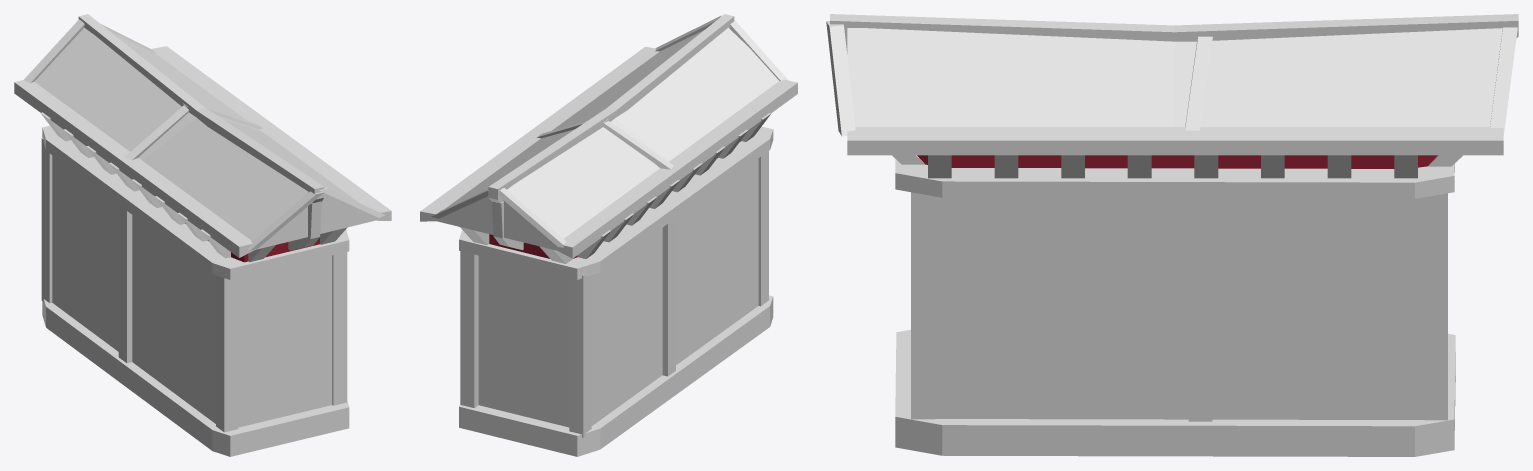
Rendered from Church 3.fbx.
3 views of the same model, side by side, from view 1: azimuth 30°, elevation 25°; view 2: azimuth 150°, elevation 25°; view 3: azimuth 270°, elevation 25° (orthographic). The views are drawn at different scales.
Parts seen in each view (by area): view 1: Cube.061, Cube.056, Cube.043, Cube.035, Cube.054, Cube.036, Cube.040; view 2: Cube.061, Cube.056, Cube.043, Cube.035, Cube.054, Cube.036, Cube.040, Cube.037; view 3: Cube.061, Cube.056, Cube.035, Cube.043, Cube.054, Cube.036, Cube.057, Cube.037.
Boxes of the visible parts, bbox=[...] form: Cube.061: bbox=[52, 155, 332, 427]; Cube.056: bbox=[14, 27, 391, 257]; Cube.043: bbox=[41, 138, 347, 432]; Cube.035: bbox=[42, 299, 349, 456]; Cube.054: bbox=[23, 14, 385, 250]; Cube.036: bbox=[42, 125, 349, 279]; Cube.040: bbox=[41, 112, 230, 258]; Cube.061: bbox=[478, 158, 758, 427]; Cube.056: bbox=[420, 27, 797, 258]; Cube.043: bbox=[460, 151, 768, 437]; Cube.035: bbox=[459, 295, 773, 456]; Cube.054: bbox=[431, 14, 788, 250]; Cube.036: bbox=[459, 126, 773, 279]; Cube.040: bbox=[577, 113, 770, 258]; Cube.037: bbox=[489, 140, 741, 258]; Cube.061: bbox=[935, 196, 1424, 419]; Cube.056: bbox=[847, 28, 1503, 155]; Cube.035: bbox=[895, 329, 1455, 456]; Cube.043: bbox=[911, 192, 1447, 421]; Cube.054: bbox=[826, 14, 1518, 136]; Cube.036: bbox=[895, 159, 1454, 198]; Cube.057: bbox=[928, 155, 1417, 178]; Cube.037: bbox=[917, 155, 1437, 168].
Bounding box in the file's own units: 513 × 853 × 1363.
